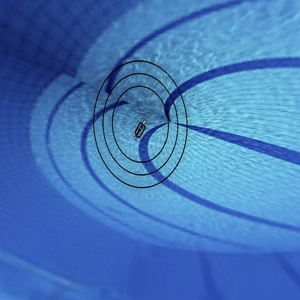circle: (85, 53, 193, 198)
submarine: (131, 114, 149, 146)
